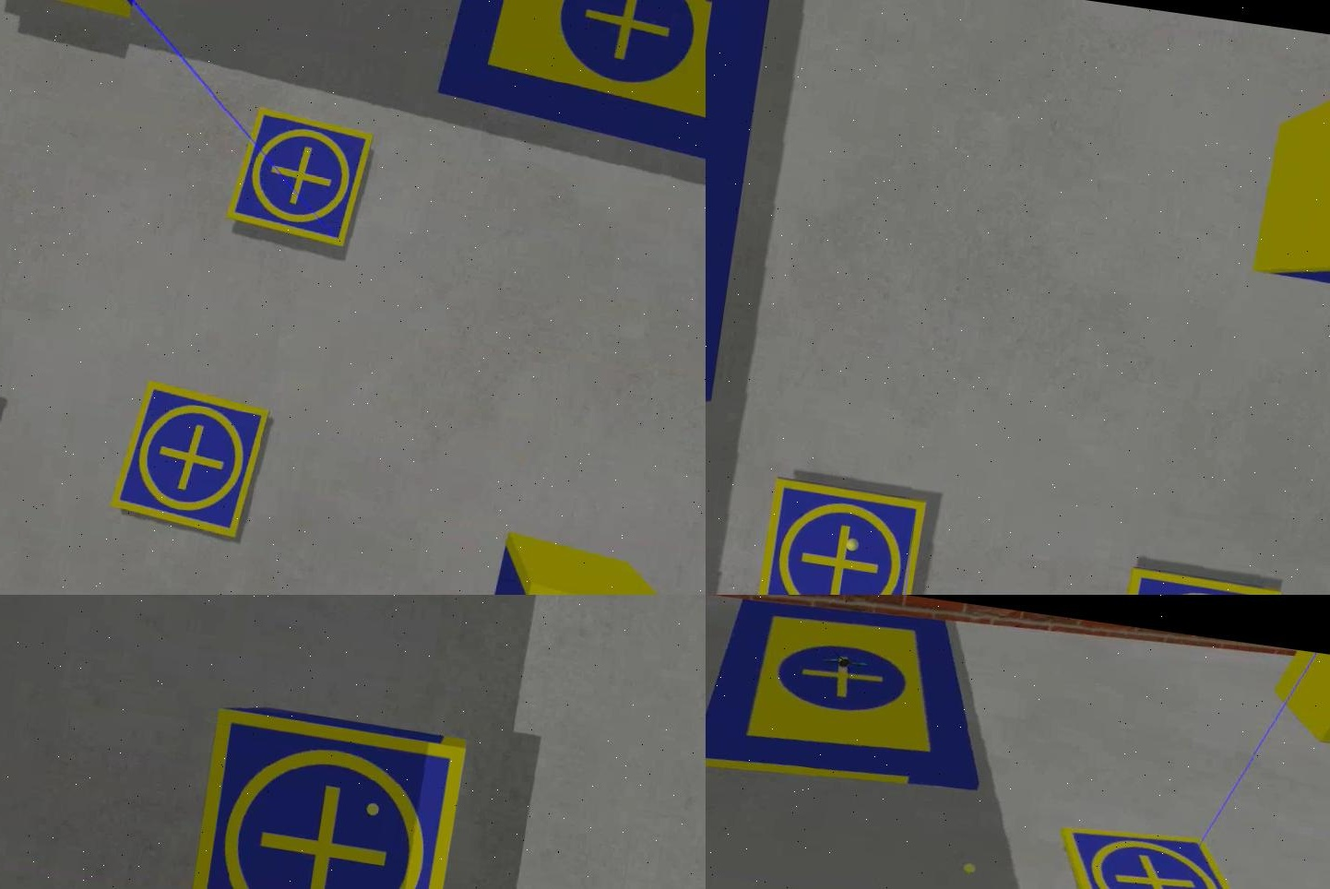large_base: (705, 595, 1003, 813), (426, 1, 705, 180)
small_base: (185, 710, 465, 889), (103, 378, 270, 546), (221, 103, 376, 256), (751, 475, 926, 595), (1046, 809, 1276, 889), (1106, 562, 1284, 595)
